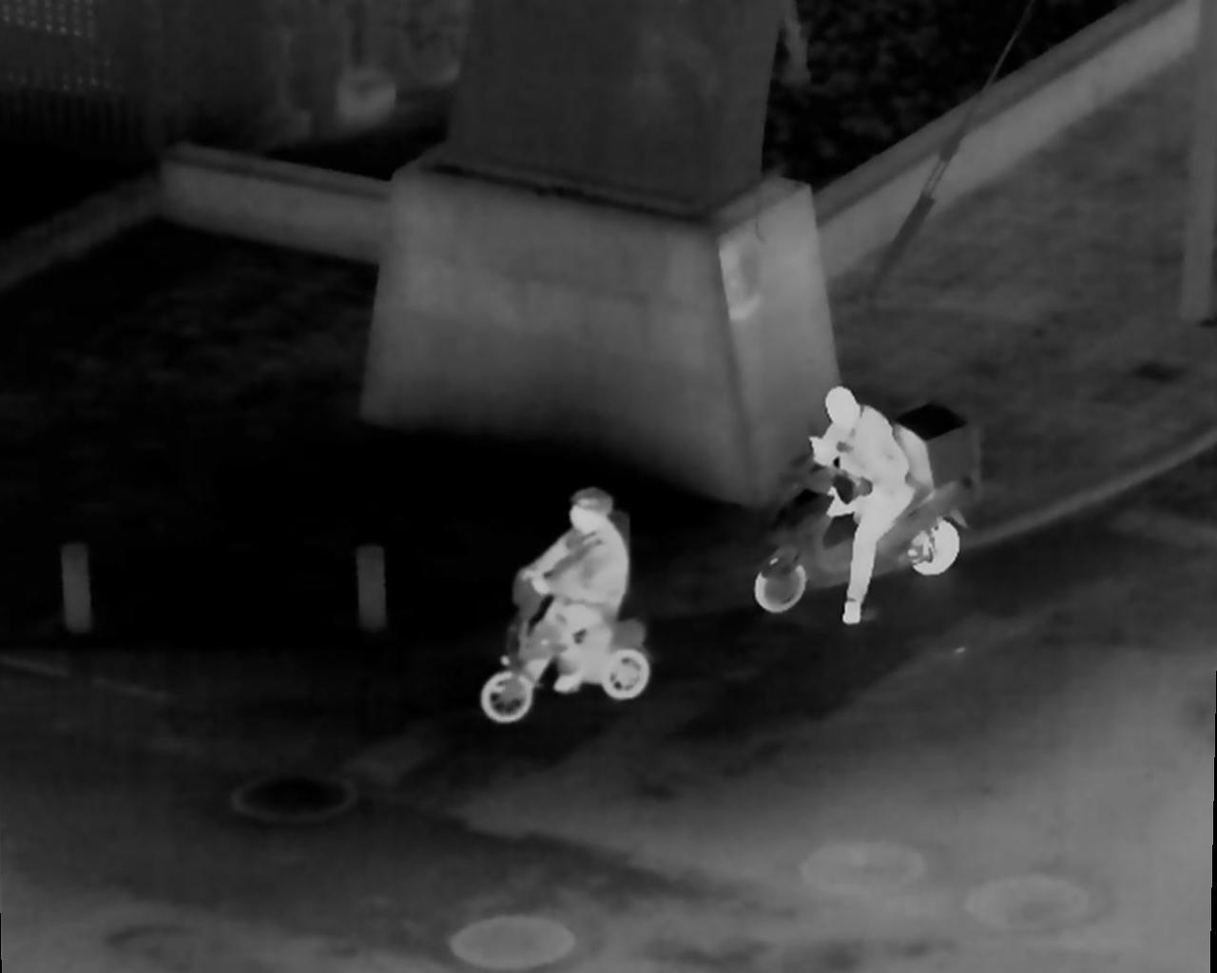person: (817, 385, 932, 625), (516, 493, 645, 696)
